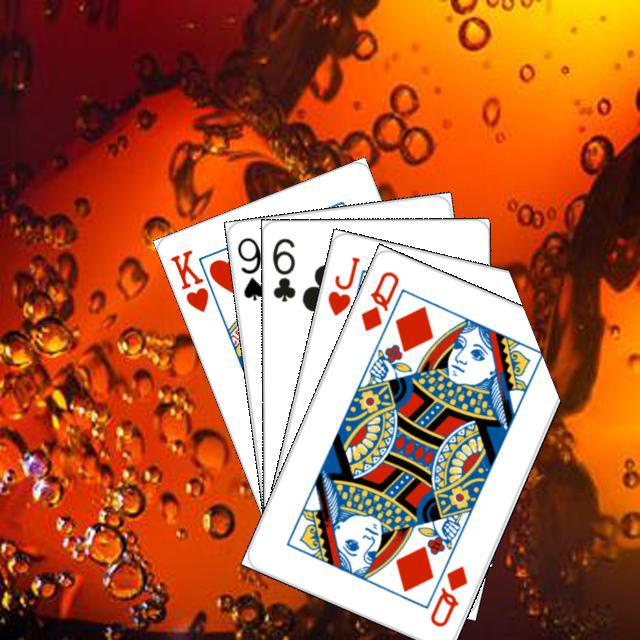6c: (268, 233, 297, 304)
9s: (232, 232, 266, 302)
Jh: (322, 251, 362, 318)
Kh: (165, 244, 223, 315)
Qd: (424, 560, 470, 629), (355, 266, 401, 333)
